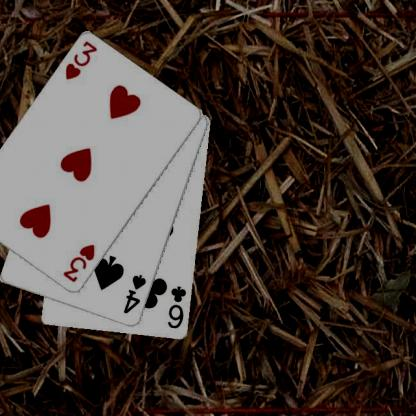3H: (62, 38, 99, 82), (60, 242, 96, 284)
4S: (121, 272, 148, 315)
6C: (164, 284, 188, 330)
